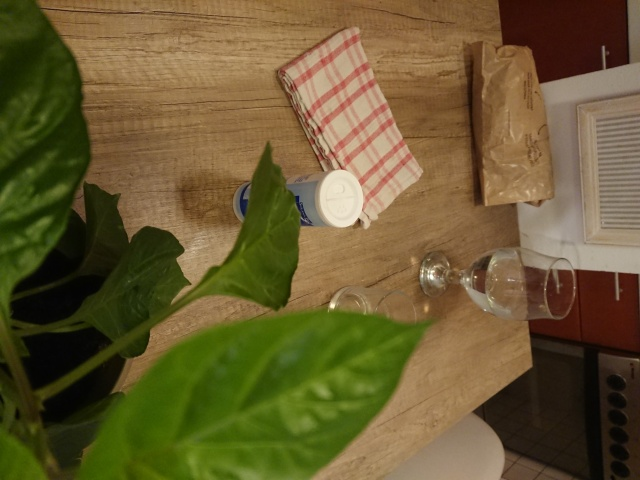Solana Pag Fine Sea Salt 250g: (230, 167, 367, 231)
